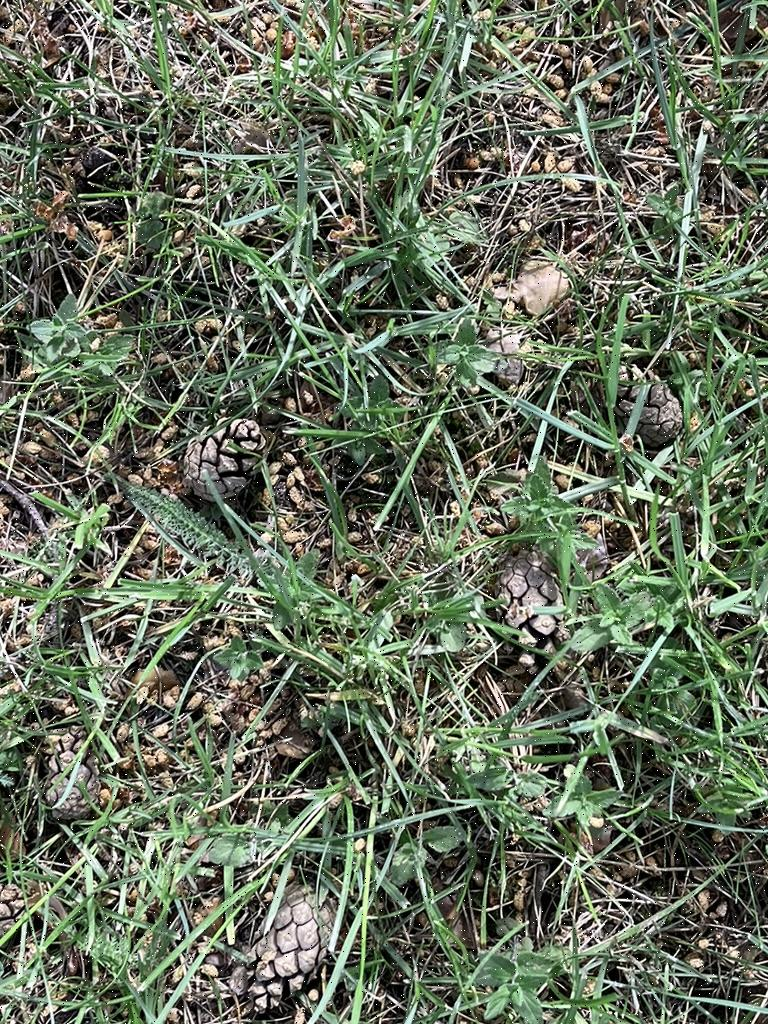pine: (231, 878, 351, 1024), (166, 403, 288, 508), (496, 538, 586, 670), (16, 718, 121, 818), (596, 348, 694, 453), (0, 870, 38, 963)
